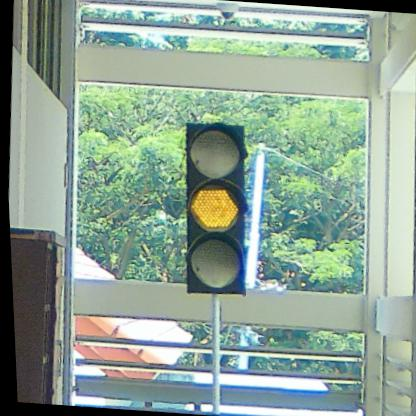yellow: (173, 121, 255, 296)
